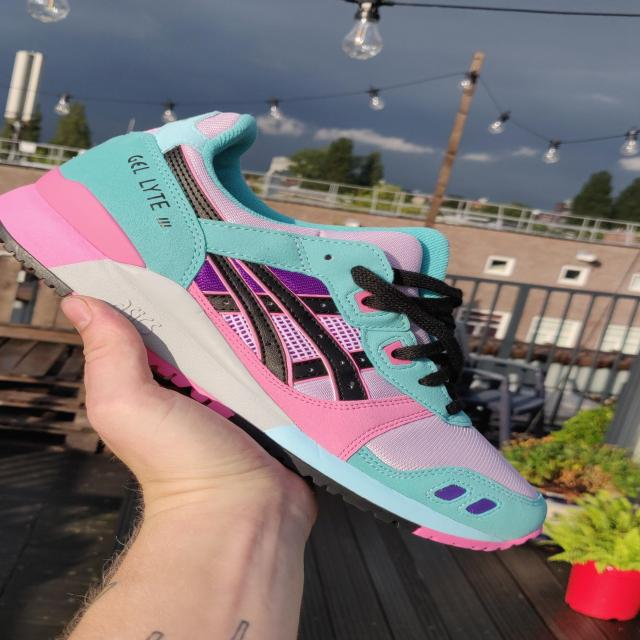shoes: (0, 98, 560, 566)
